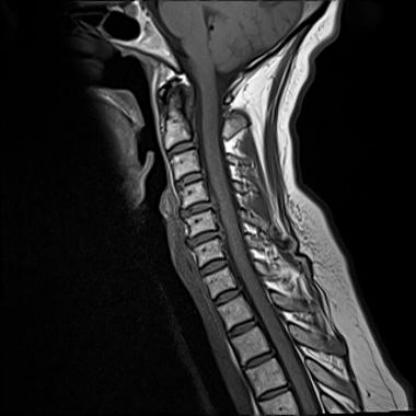Osteophytesrotation: (186, 225, 222, 246), (177, 198, 216, 216)
